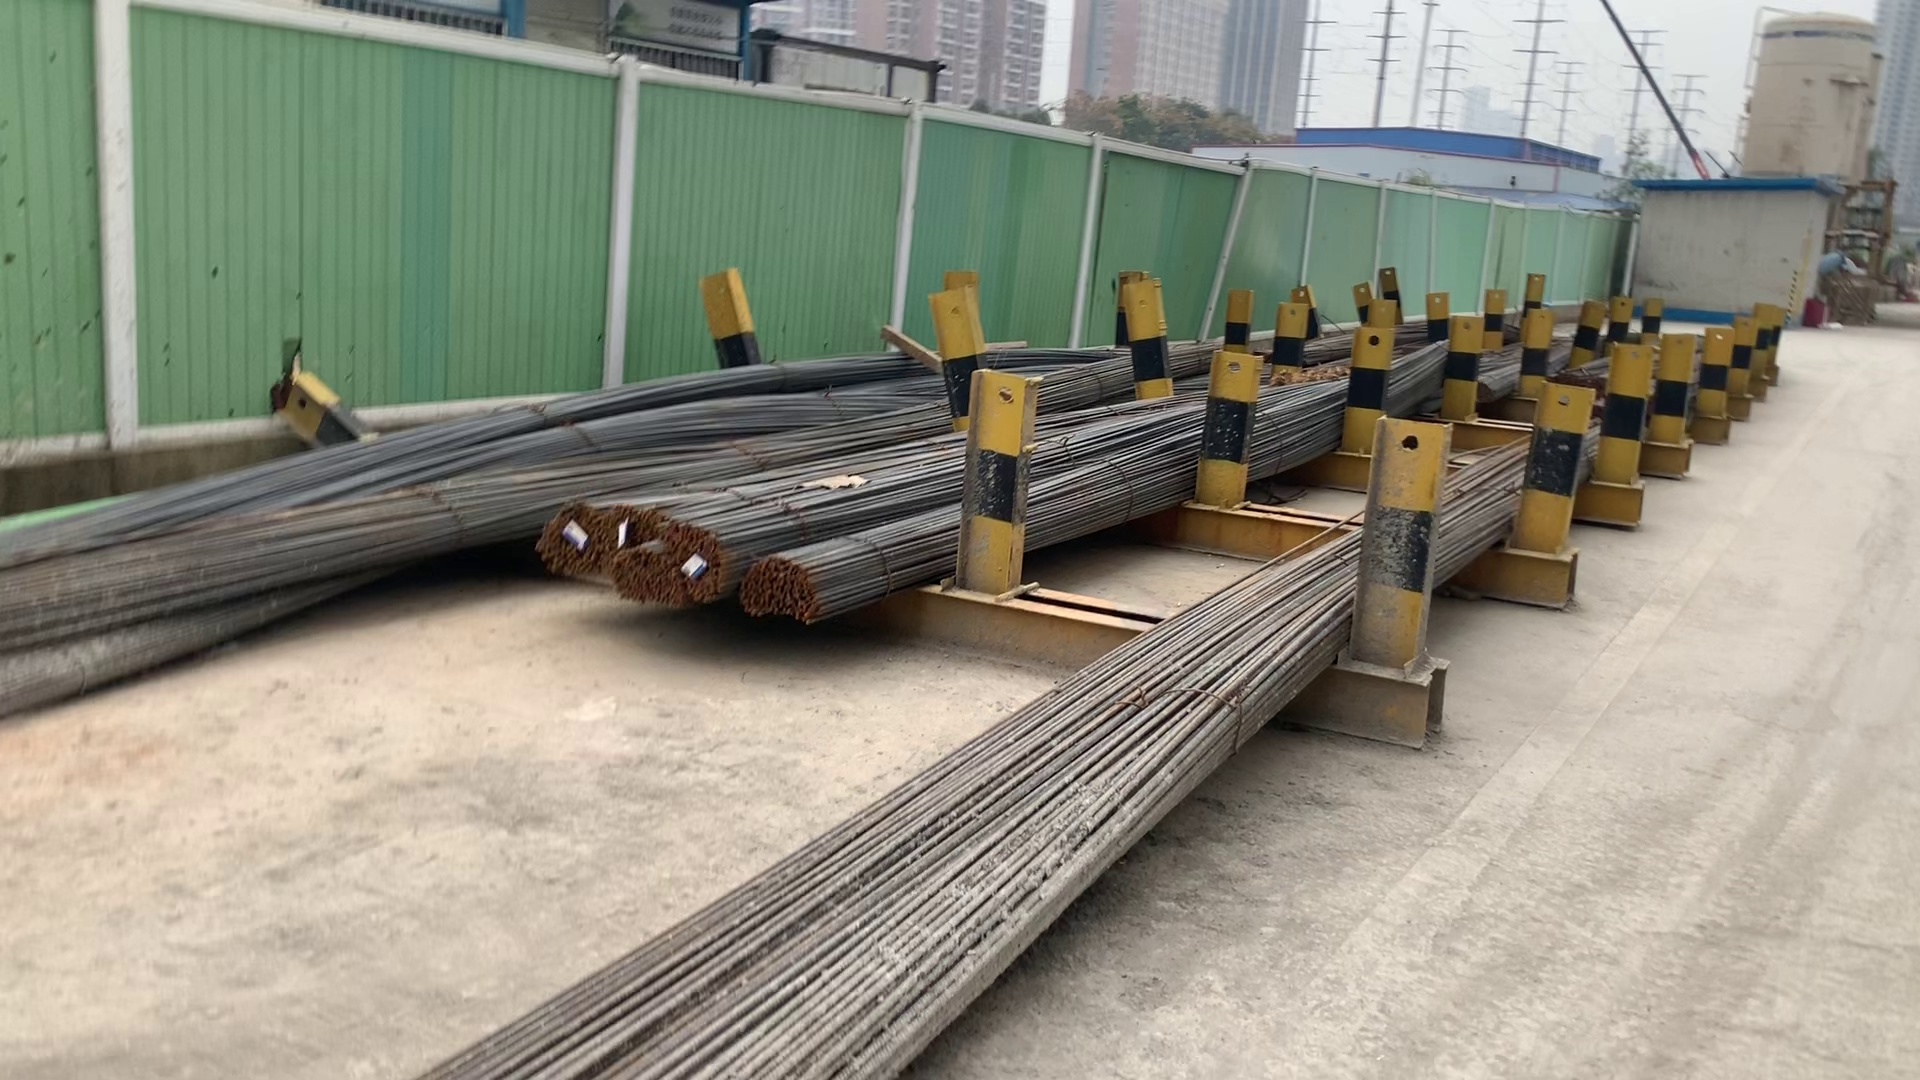rebar: (611, 533, 720, 608), (529, 502, 608, 579), (735, 556, 820, 625)
